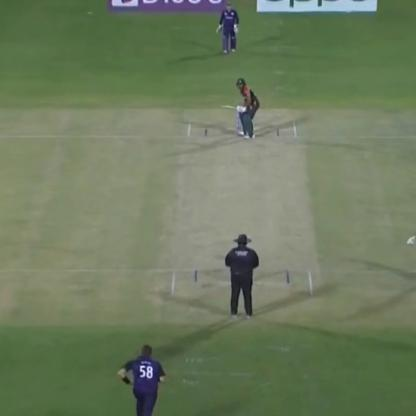bat: (210, 101, 245, 118)
pitch: (164, 116, 321, 311)
